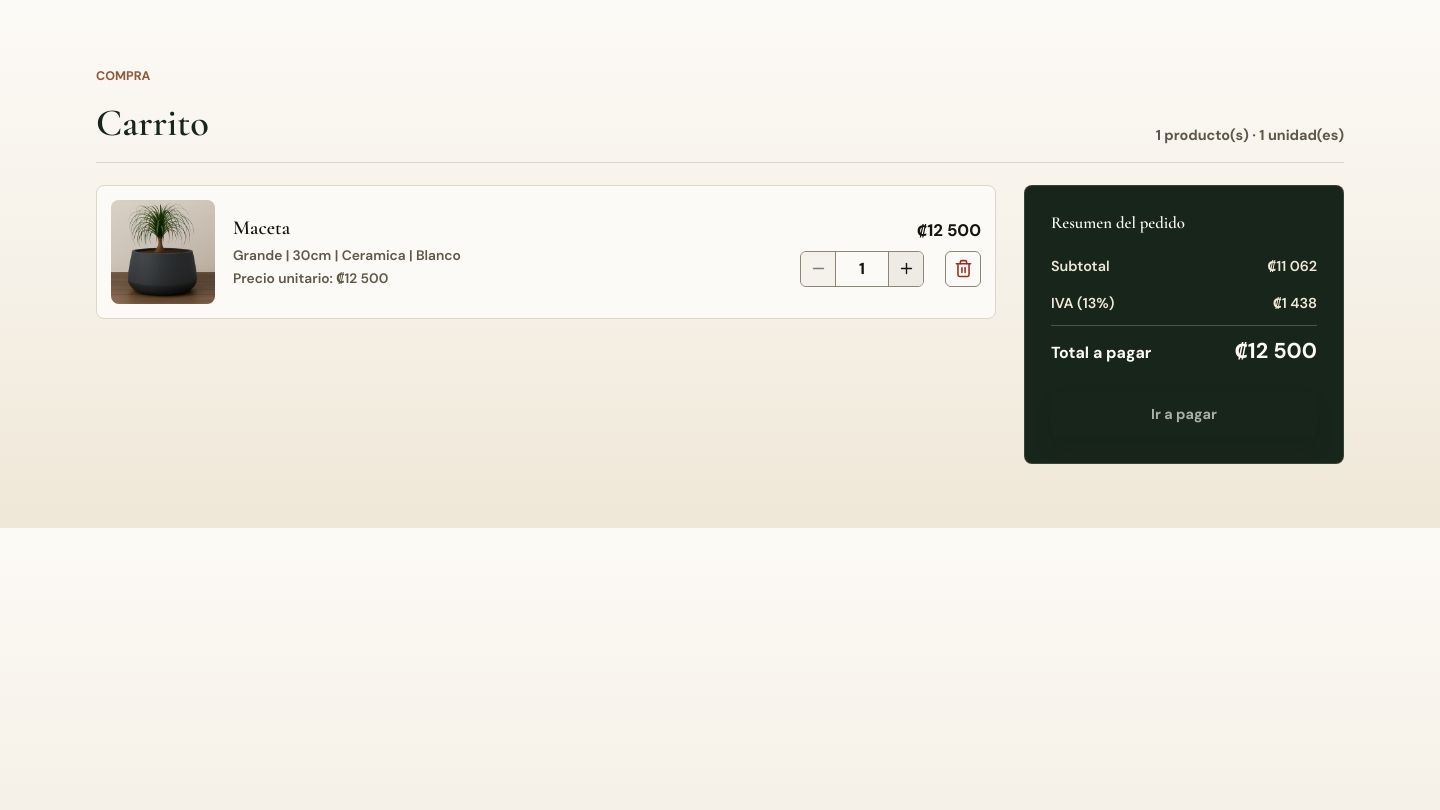
Scenario: asks for confirmation before removing a cart item
Click the button named "Eliminar Maceta del carrito": point(963, 269) [945, 251, 981, 287]
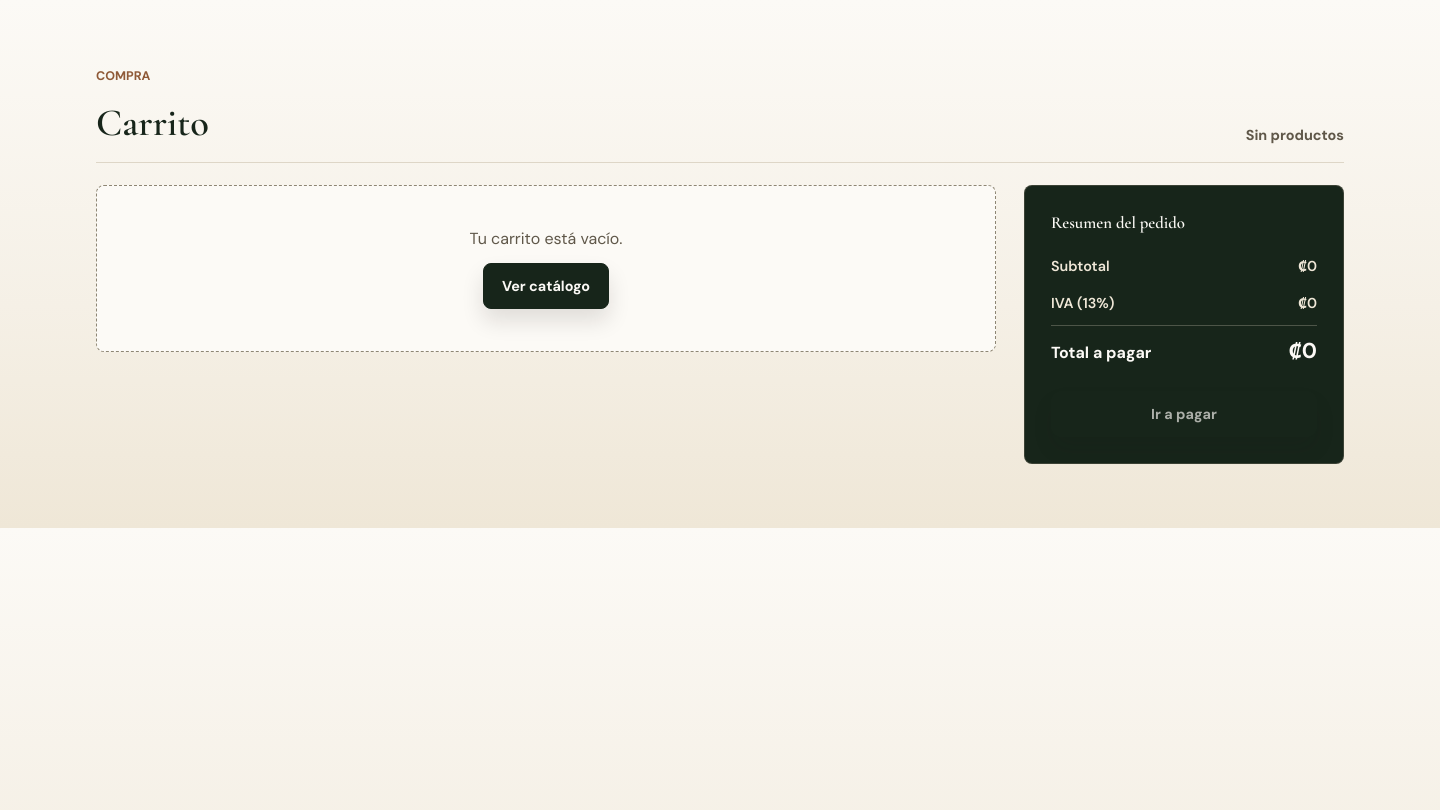
Result: the text "Tu carrito está vacío." is shown at [470, 228, 622, 249]
